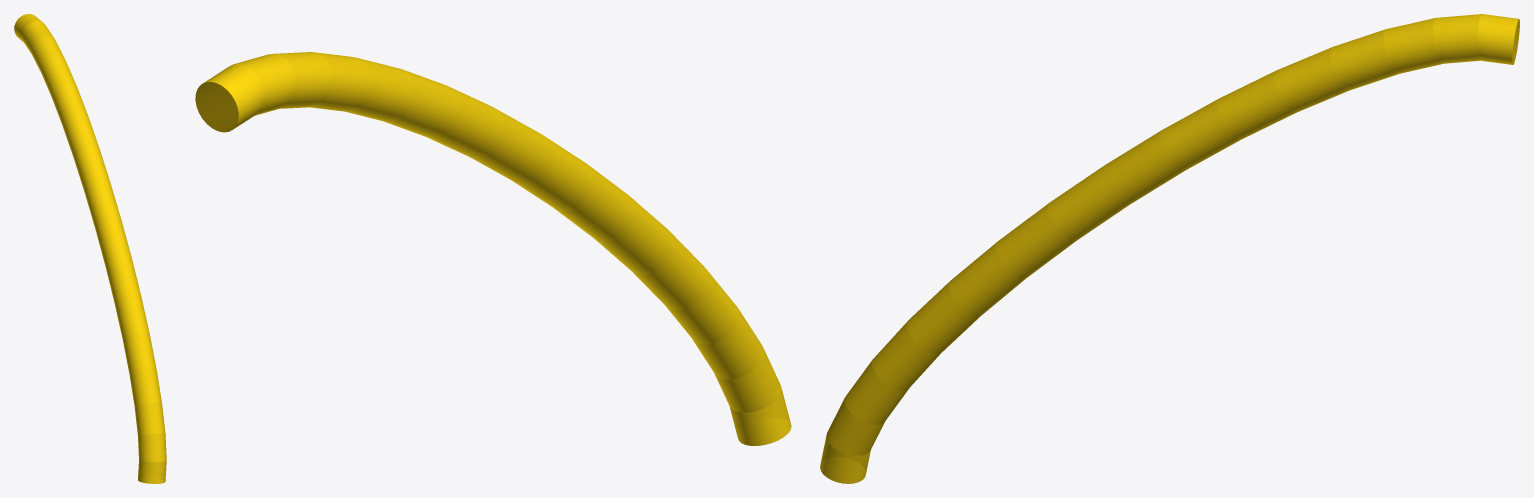
Rendered from Event_421115418_track_96.fbx.
3 views of the same model, side by side, from view 1: azimuth 30°, elevation 25°; view 2: azimuth 150°, elevation 25°; view 3: azimuth 270°, elevation 25° (orthographic). The views are drawn at different scales.
Parts seen in each view (by area): view 1: Model; view 2: Model; view 3: Model.
Part boxes in pixels (x1,y1,x2,y2): Model: (14,14,166,483); Model: (195,52,791,445); Model: (820,14,1519,483).
Bounding box in the file's own units: 0.1639 × 0.4892 × 0.5984.
